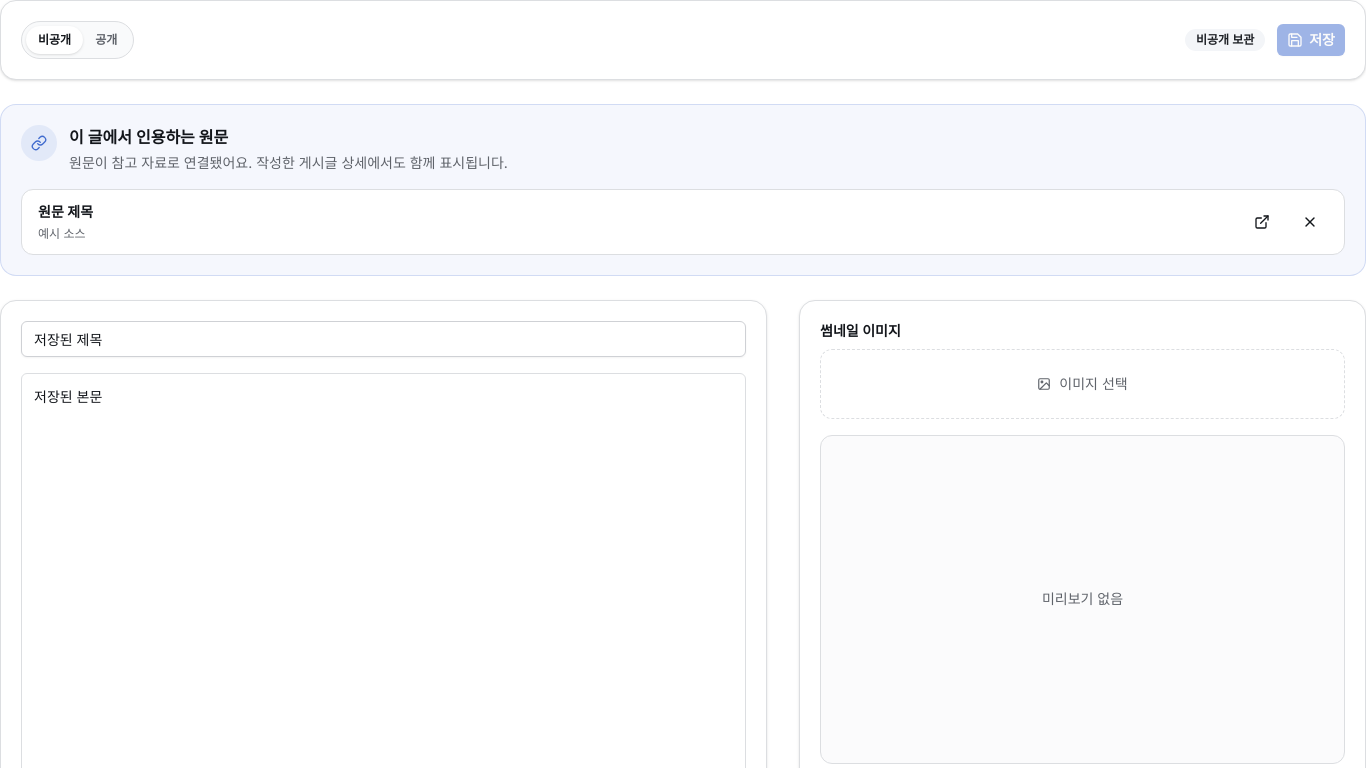
Test case: WriteEditor 인용 원문 › 인용을 해제하면 목록에서 사라지고 저장할 수 있다
The image size is (1366, 768).
Click the button named "원문 제목 인용 해제". click: click(1310, 222)
box: [1292, 204, 1328, 240]
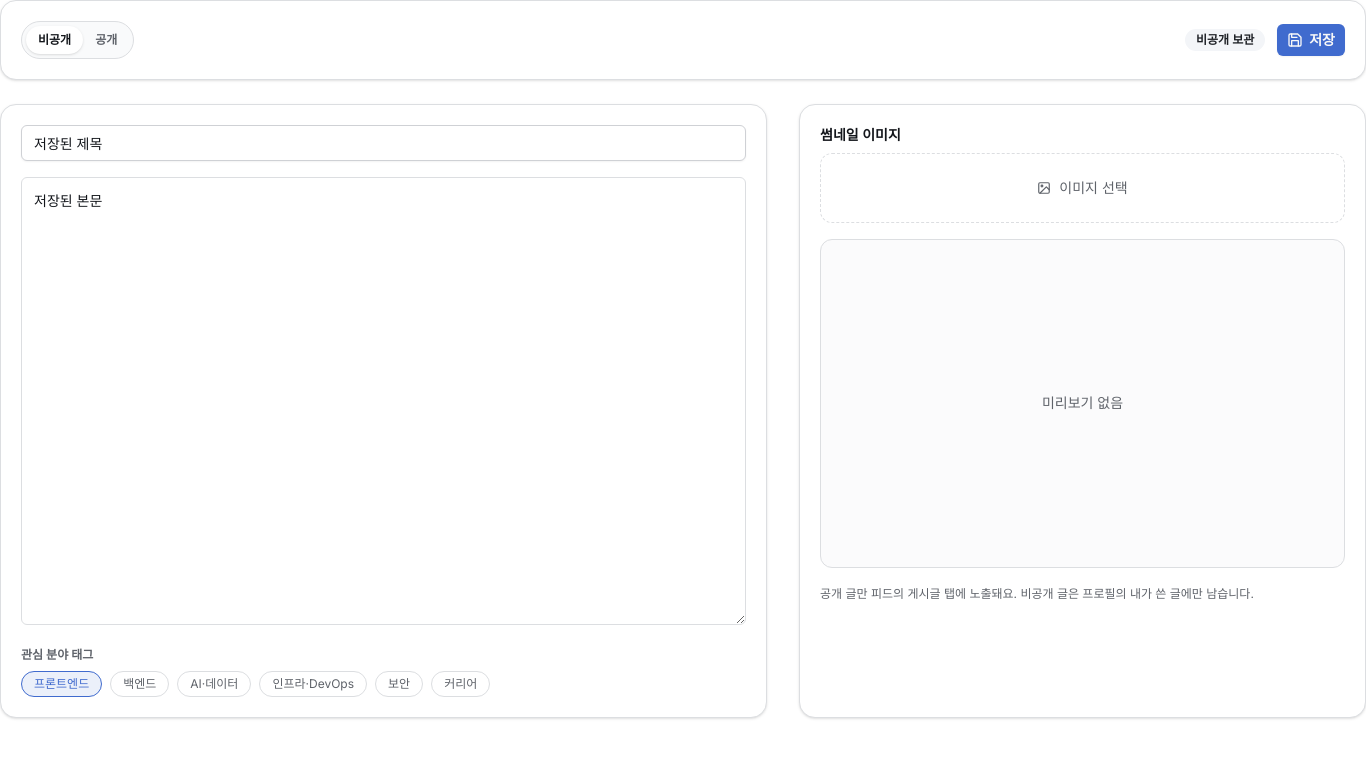
Expected: the text "원문 제목" is gone
Expected: the button "저장" is enabled, [1277, 24, 1345, 56]
